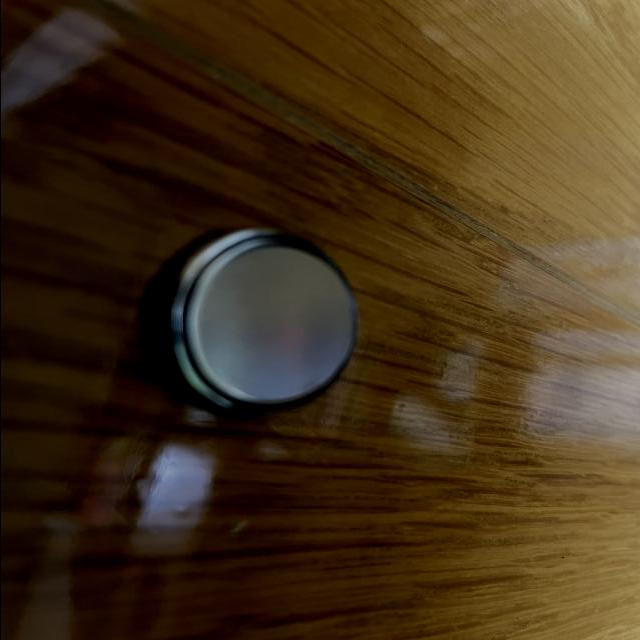COIN: (145, 226, 360, 418)
